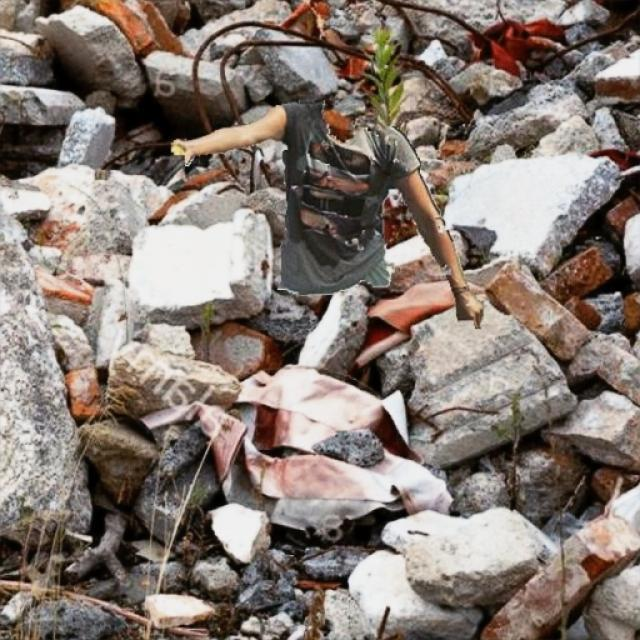Person in Rubble: (172, 100, 482, 328)
